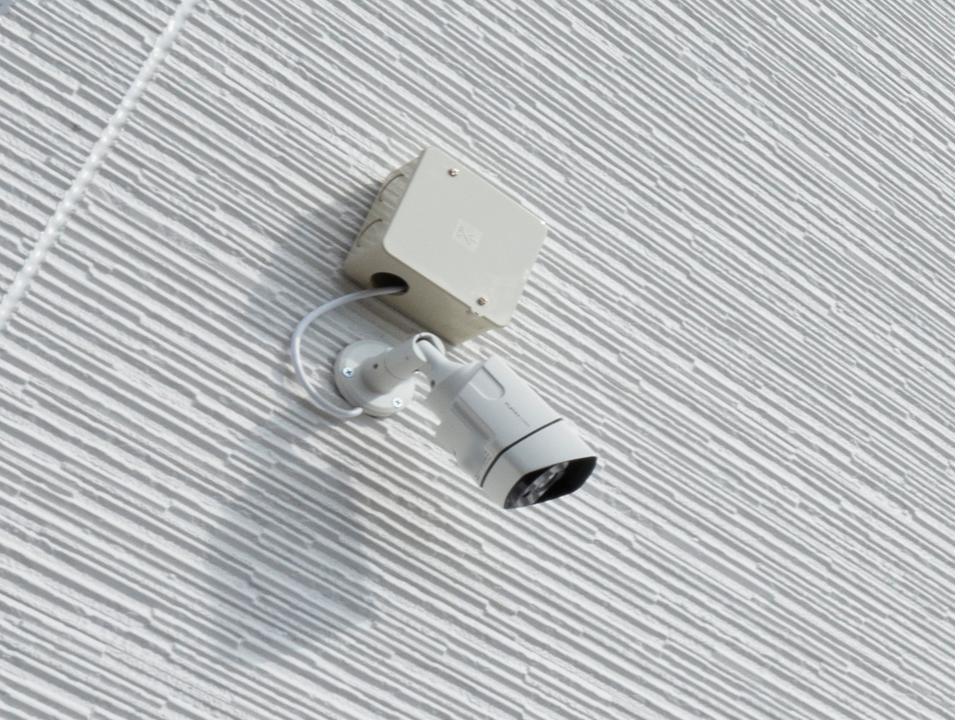tutu: (430, 339, 612, 524)
